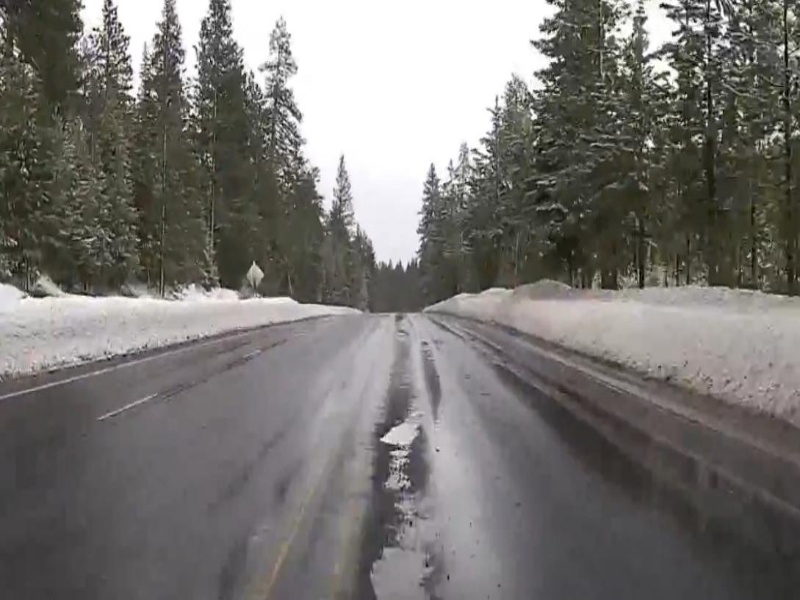pothole: (369, 541, 439, 600), (379, 424, 421, 447), (381, 468, 413, 491)
